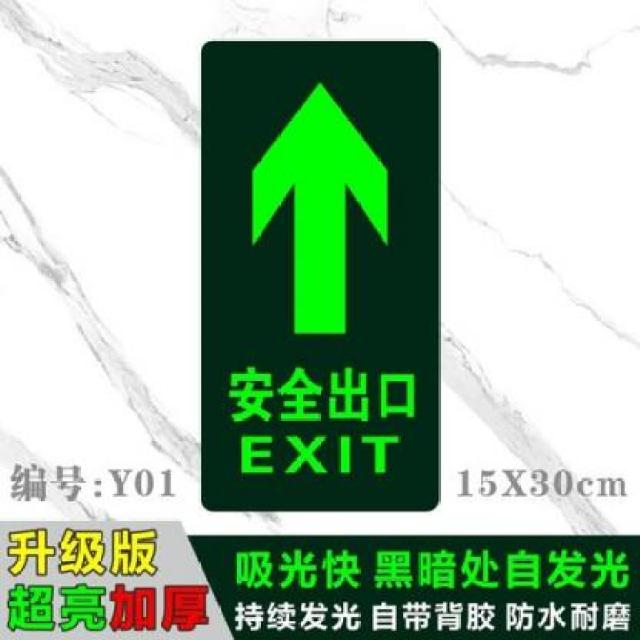exit_sign: (196, 29, 444, 511)
